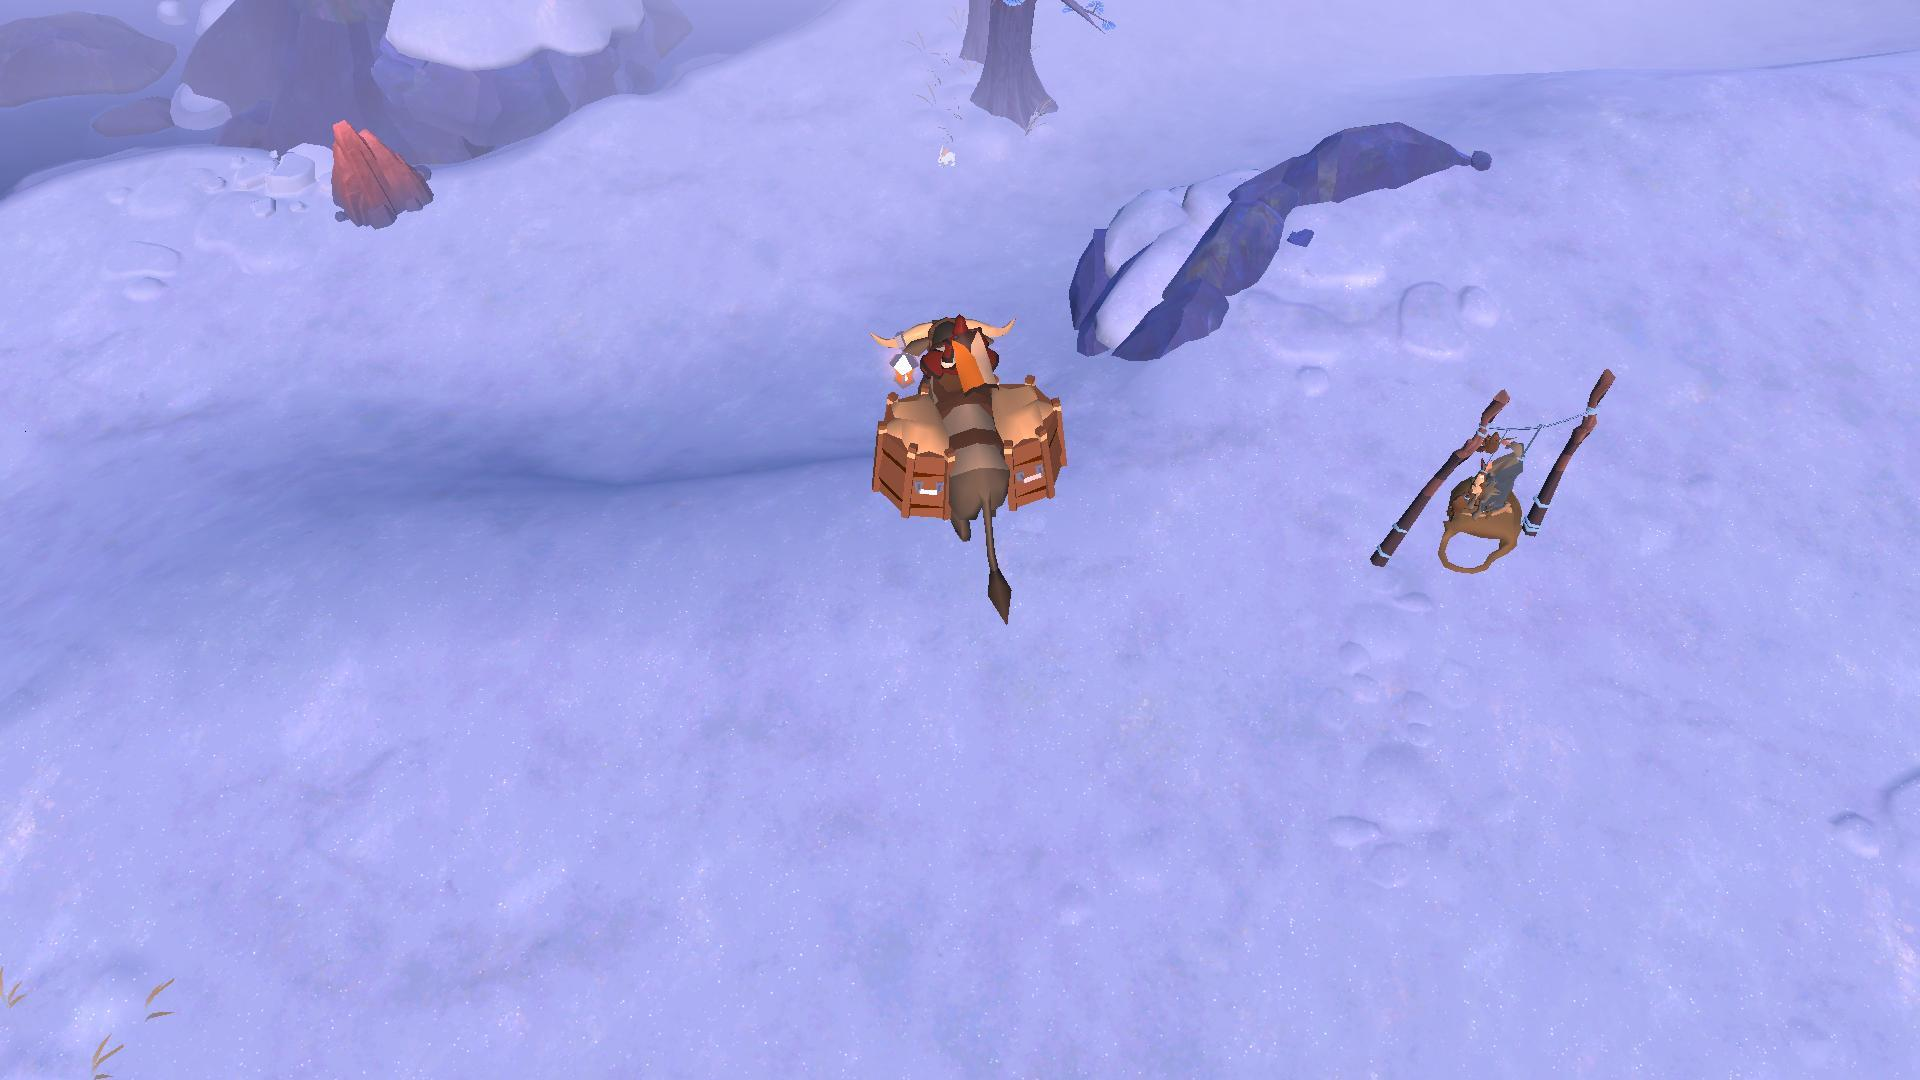rock_t5: (323, 115, 433, 233)
